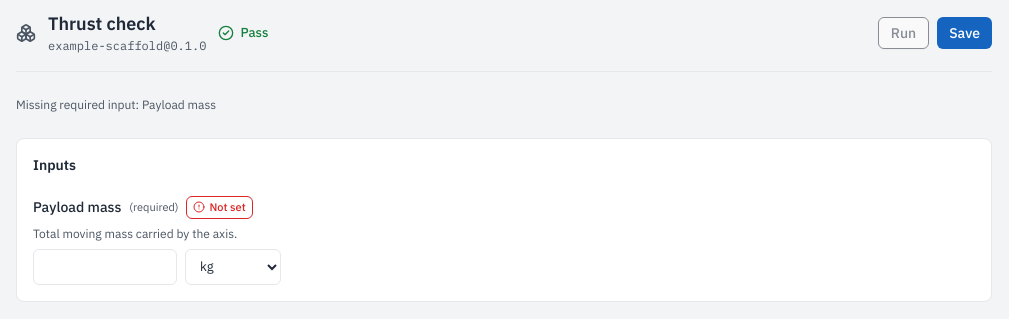
Test: ModuleInputWorkspace › enables Run once every required field is complete
The image size is (1009, 319).
In the number field labelled "Payload mass": (105, 266) x1=33 y1=248 x2=177 y2=284, type "12"
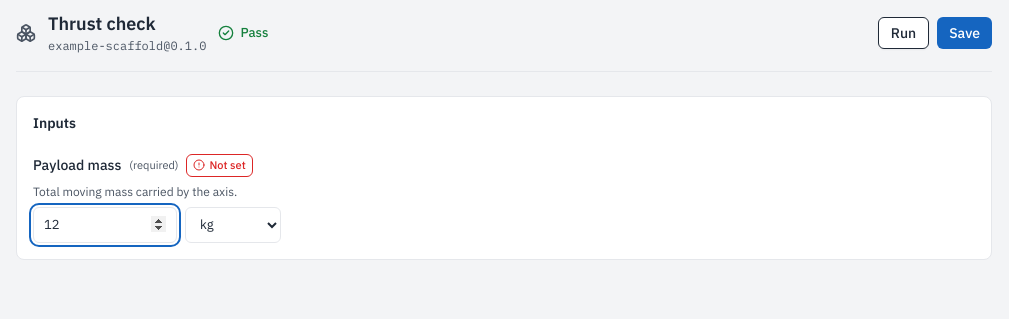
Check: the button "Run" is enabled, box x1=878 y1=16 x2=929 y2=48
